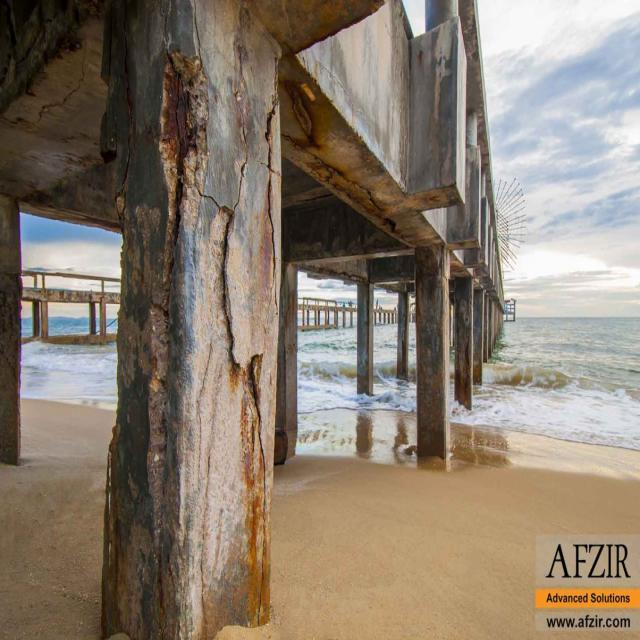corrosion: (154, 40, 195, 345), (229, 354, 269, 617), (286, 81, 319, 152)
